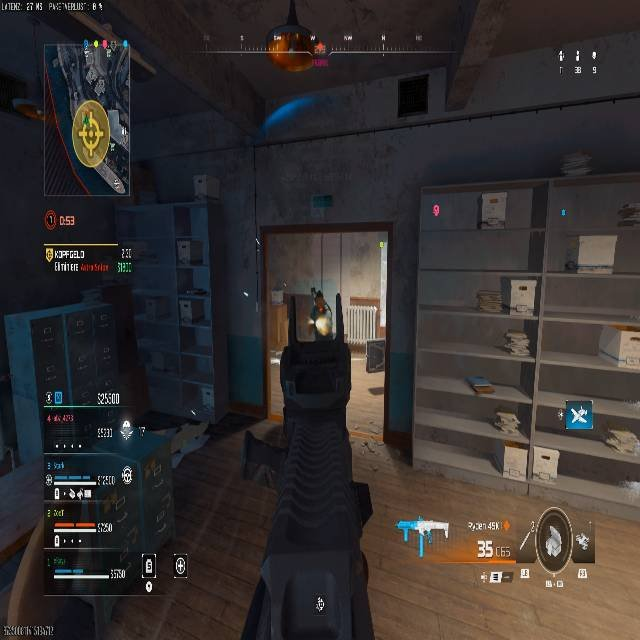player: (236, 293, 377, 637), (310, 289, 332, 337)
